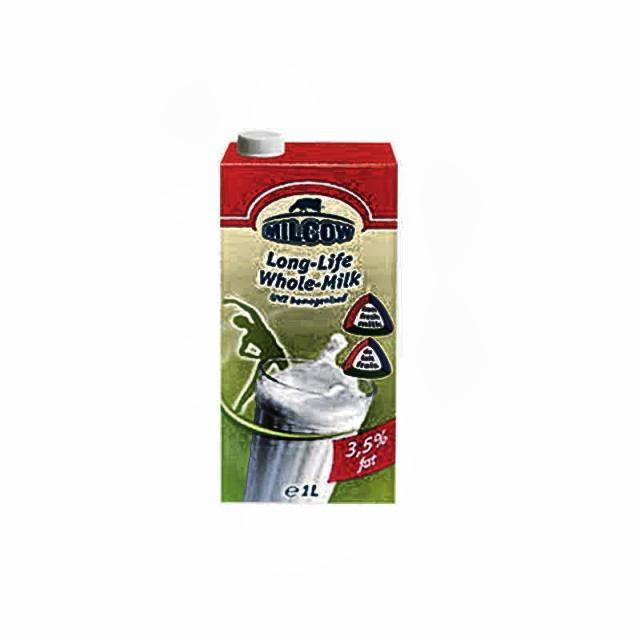cardboard: (219, 132, 398, 504)
